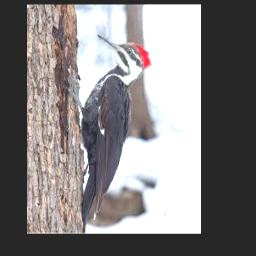Woodpecker: (66, 33, 152, 234)
